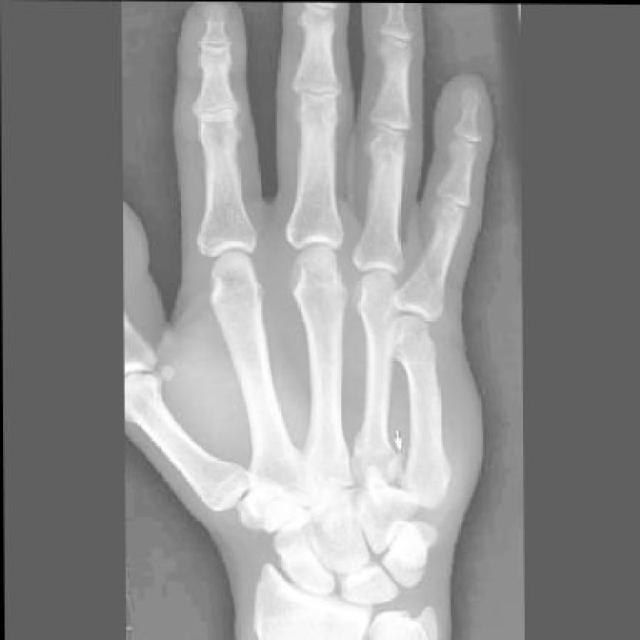Fracture: (388, 437, 432, 491)
